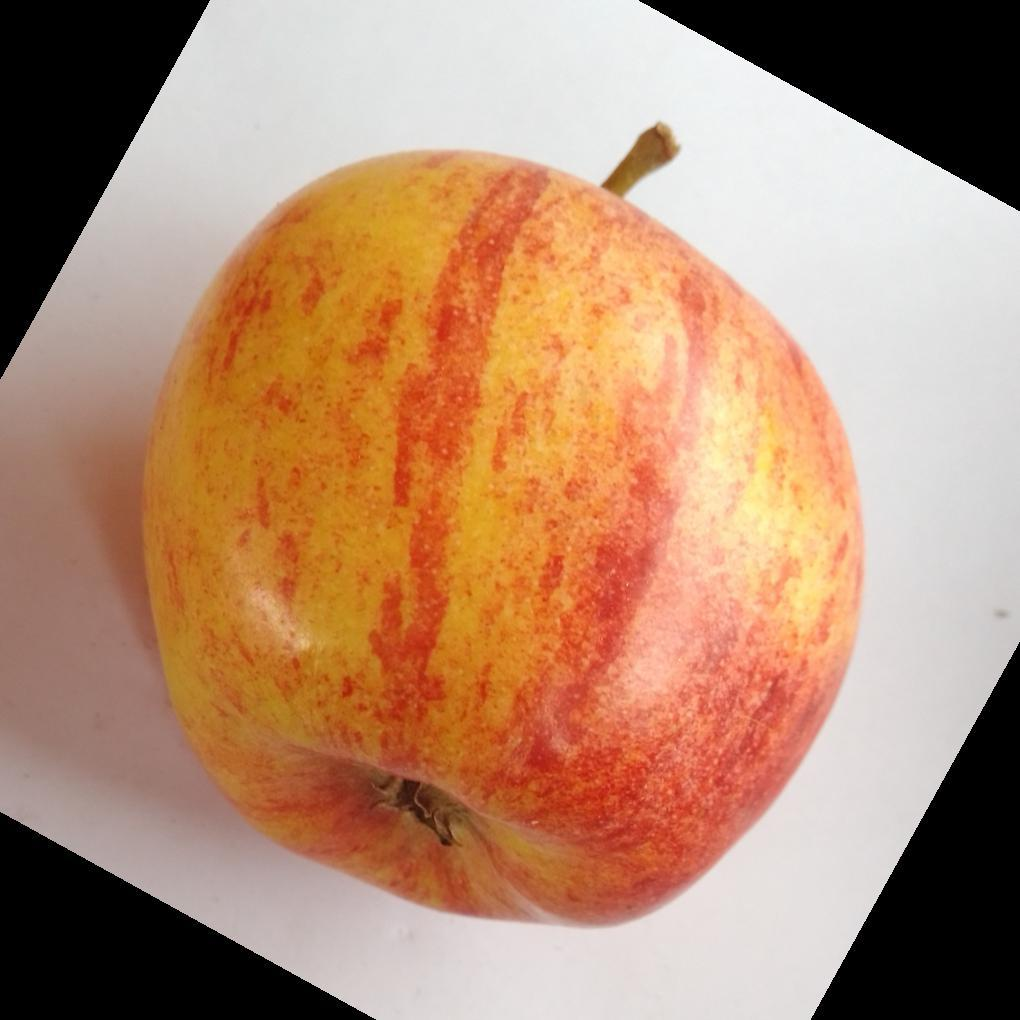FreshGuava: (136, 149, 868, 931)
